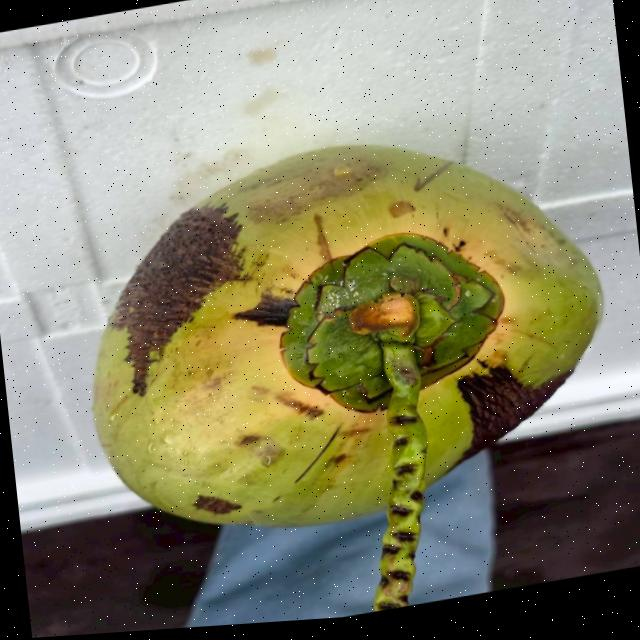coco_1.5: (196, 165, 584, 490)
